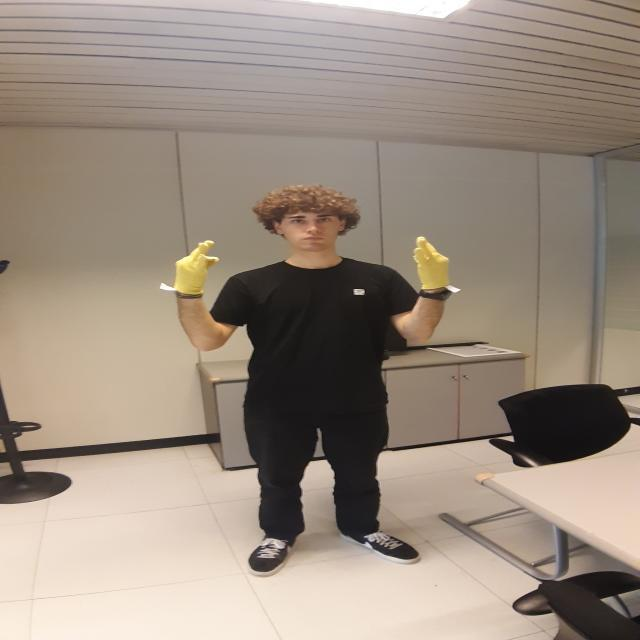gloved_hand: (407, 233, 459, 291), (177, 239, 222, 297)
